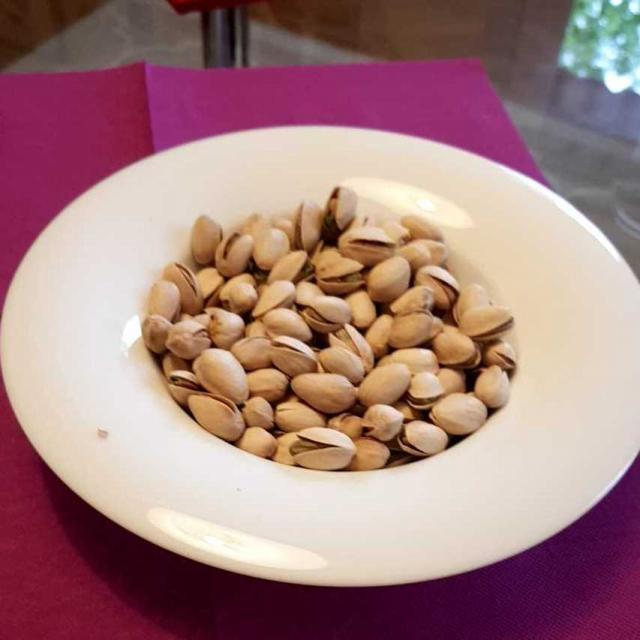pistachio: (135, 193, 508, 469)
